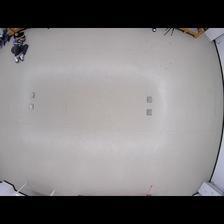fall: (9, 30, 28, 62)
